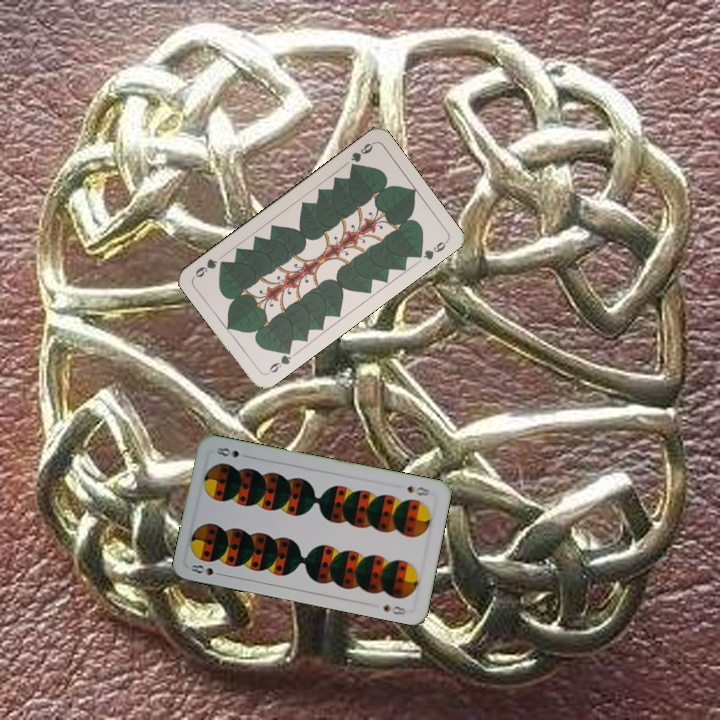G9: (263, 344, 298, 377), (346, 138, 377, 172)
S8: (187, 560, 227, 578), (403, 482, 433, 499)
